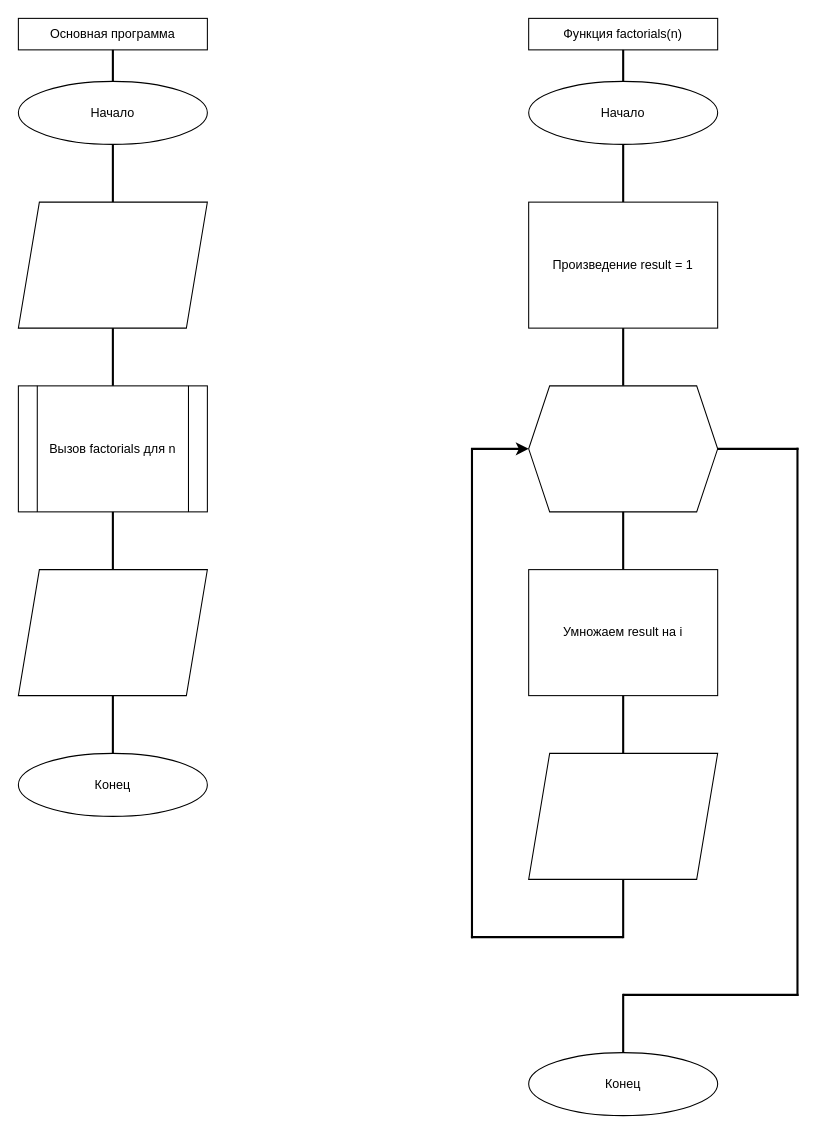
Some shapes in this 819 by 1134 pixel diagram are drawn without their labels. Here are the shapes that lost their labels. From the top down, the box of each, then its label:
(17, 201, 207, 328): Ввод числа n
(528, 385, 718, 512): Для i от 1 до n
(17, 569, 207, 696): Вывод всех полученных факториалов через пробел
(528, 752, 718, 879): Выдаём текущее значение result
